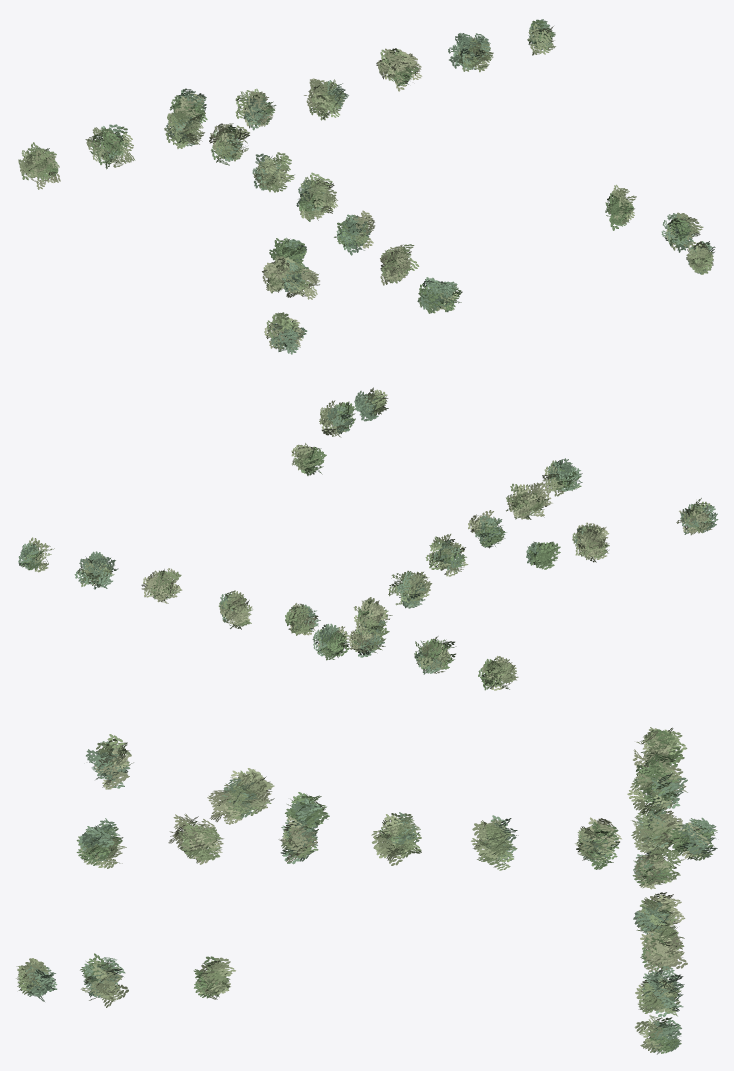
File: campus-tree-2_-4-far.glb
3 renders of one model, top to bottom at view 1: azimuth 30°, elevation 25°; view 2: azimuth 150°, elevation 25°; view 3: azimuth 270°, elevation 25°, orthographic. The views are drawn at different scales.
Parts seen in each view (by area): view 1: Campus leaf canopy; view 2: Campus leaf canopy; view 3: Campus leaf canopy.
Boxes of the visible parts, <box> form: Campus leaf canopy: <box>18,19,715,354</box>; Campus leaf canopy: <box>18,387,718,690</box>; Campus leaf canopy: <box>16,727,717,1054</box>.
Size of the model in its own units: 82.75 by 7.82 by 79.28.
1 material, 1 textured.
